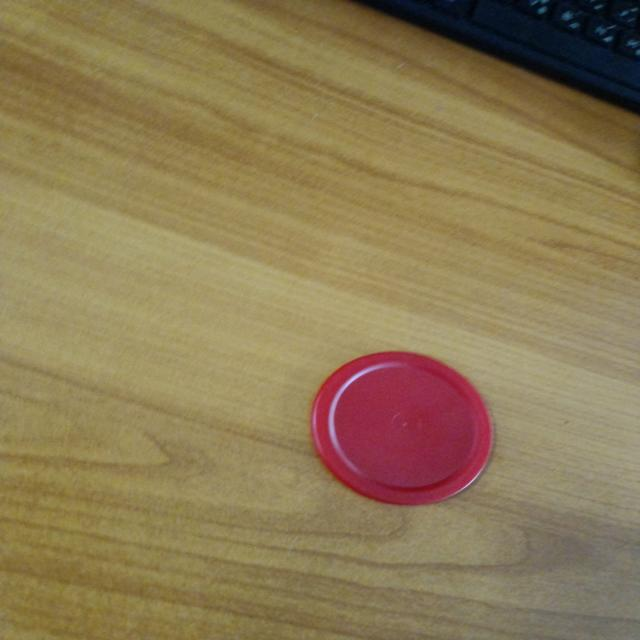chip: (306, 349, 493, 507)
